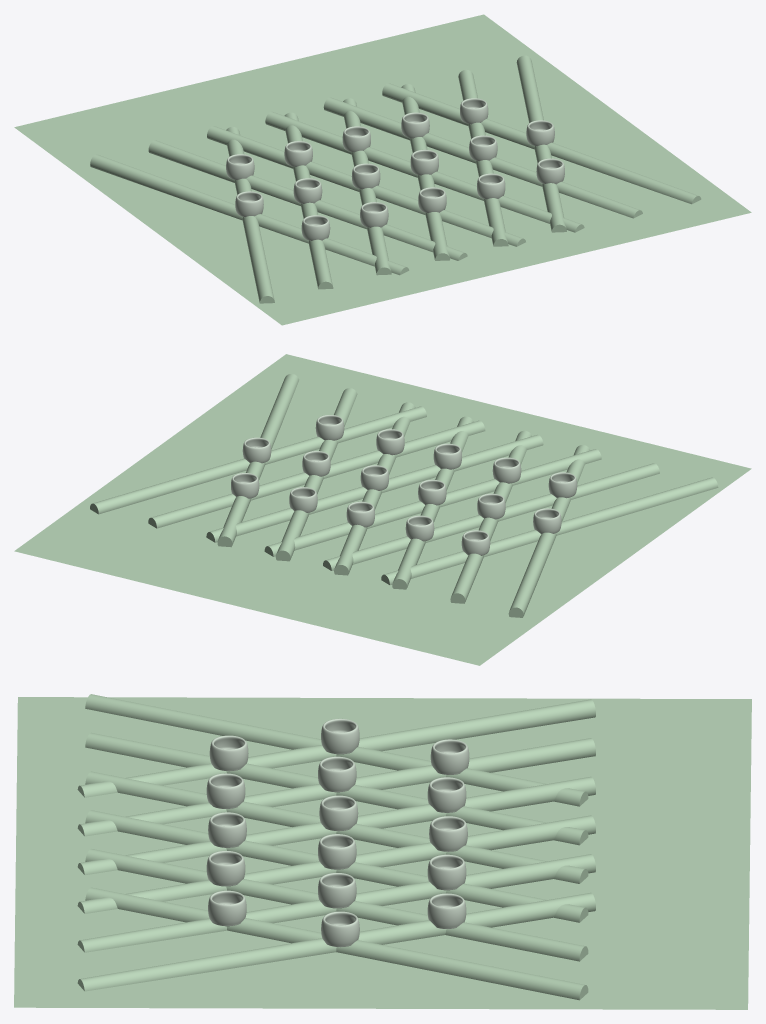
Rendered from garden plot.fbx.
3 views of the same model, one above another, from view 1: azimuth 30°, elevation 25°; view 2: azimuth 150°, elevation 25°; view 3: azimuth 270°, elevation 25° (orthographic). The views are drawn at different scales.
Parts seen in each view (by area): view 1: polySurface54; view 2: polySurface54; view 3: polySurface54.
Boxes of the visible parts, <box> form: polySurface54: <box>14,14,751,325</box>; polySurface54: <box>14,354,751,665</box>; polySurface54: <box>14,694,751,1009</box>.
Size of what is drawn, in the model's own units: 24.19 by 1.45 by 24.19.
